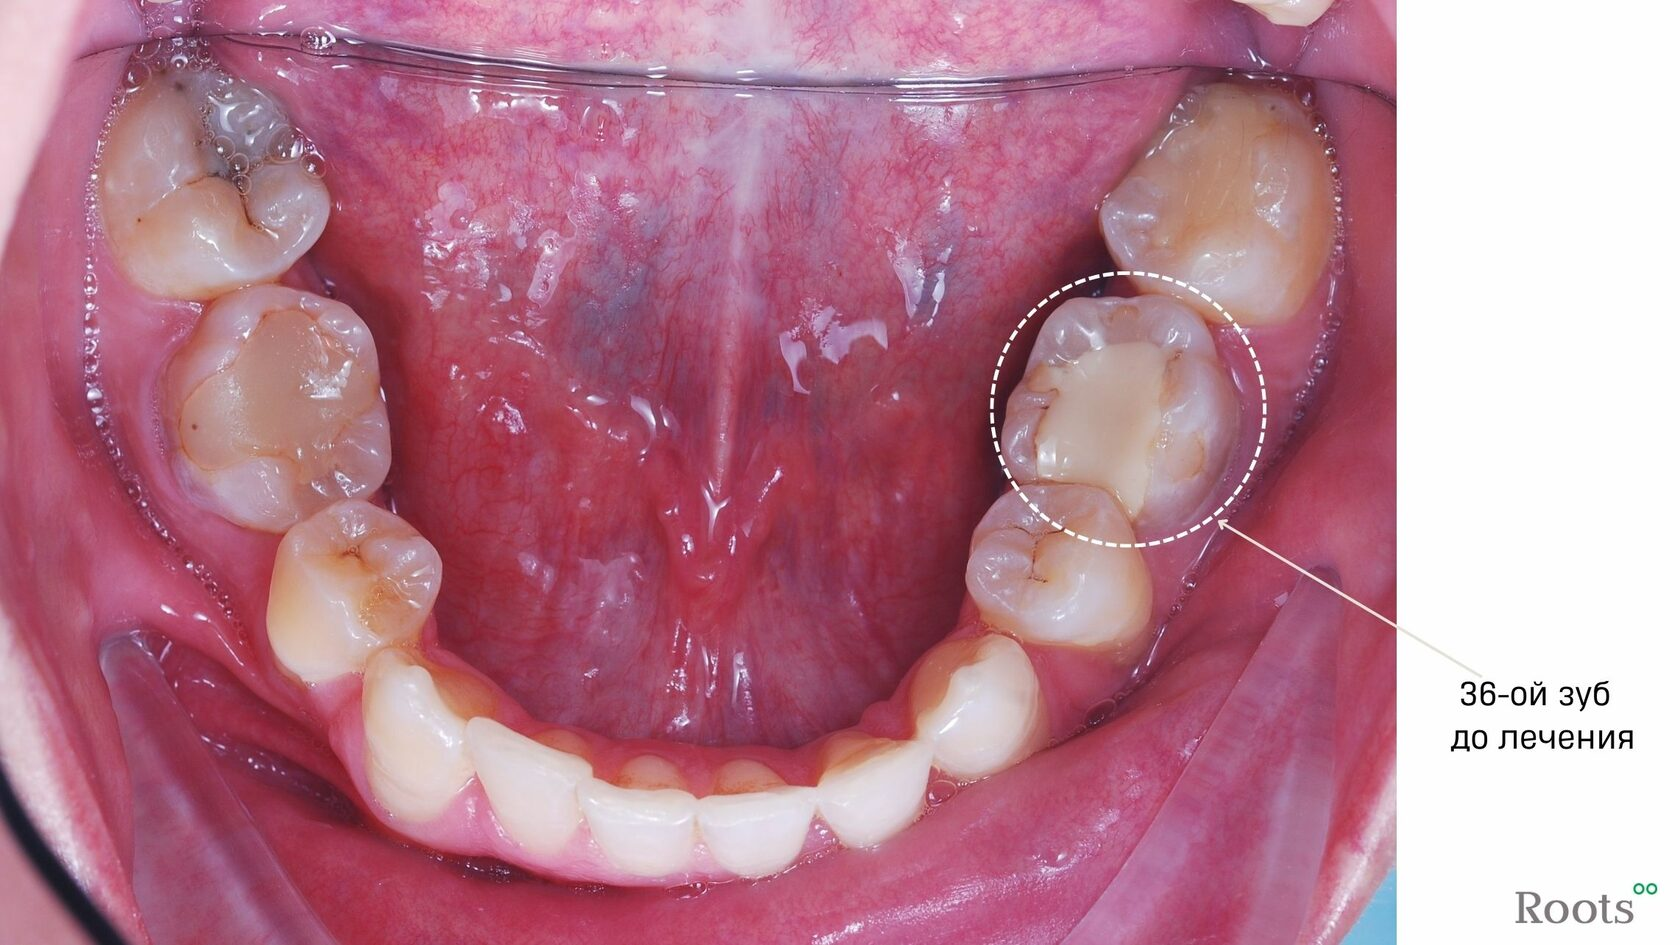LL1BC_decay: (961, 480, 1155, 672)
LL1M_healthy: (1101, 78, 1333, 316)
LL2BC_decay: (996, 305, 1247, 532)
LLCI_healthy: (695, 759, 809, 873)
LLC_healthy: (909, 633, 1037, 792)
LLLI_healthy: (808, 722, 927, 854)
LR1BC_decay: (265, 503, 449, 688)
LR1M_decay: (95, 55, 325, 291)
LR2BC_decay: (172, 273, 393, 537)
LRCI_healthy: (584, 749, 695, 877)
LRC_healthy: (361, 655, 498, 823)
LRLI_healthy: (473, 715, 603, 868)
